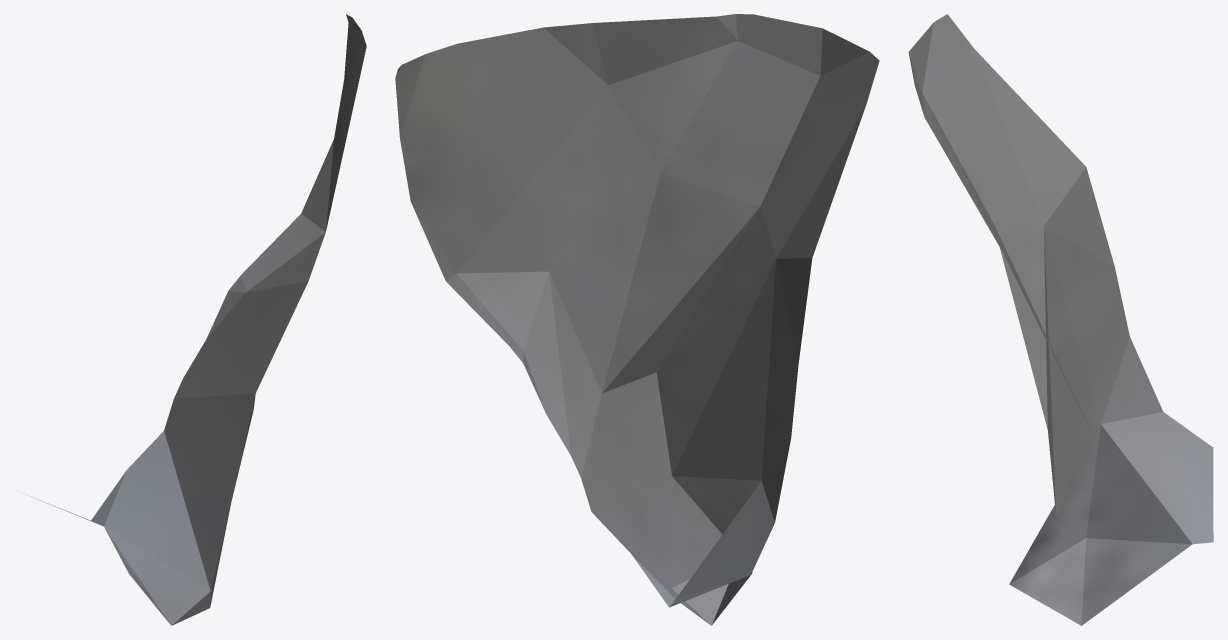
The picture shows the model from 3 angles, left to right: view 1: azimuth 30°, elevation 25°; view 2: azimuth 150°, elevation 25°; view 3: azimuth 270°, elevation 25°; orthographic projection. The views are drawn at different scales.
Size of the model in its own units: 0.0788 by 0.115 by 0.0568.
Materials: 1 (1 with a texture image).
